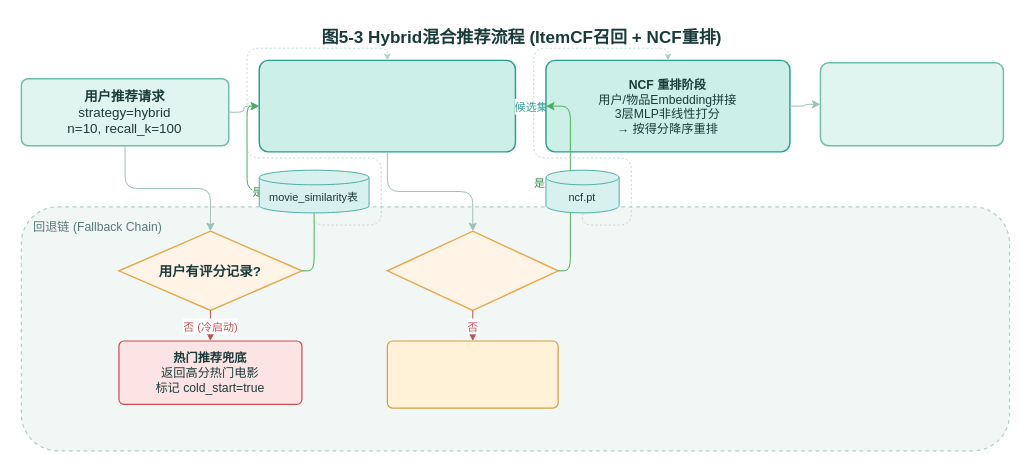
Image size: 1032x472. Some labels were removed from this diagram. The centre of each missing label's shape, as x and y in pixels:
ItemCF 召回阶段 从 movie_similarity 表查询 相似度×评分加权累加 → 候选集 (size=recall_k): the point at 387,105
NCF模型就绪?: the point at 472,270
Top-10输出 推荐列表 + 推荐理由 + 推荐分数: the point at 911,103
退化为 ItemCF 直接输出ItemCF 召回结果Top-N: the point at 472,374
